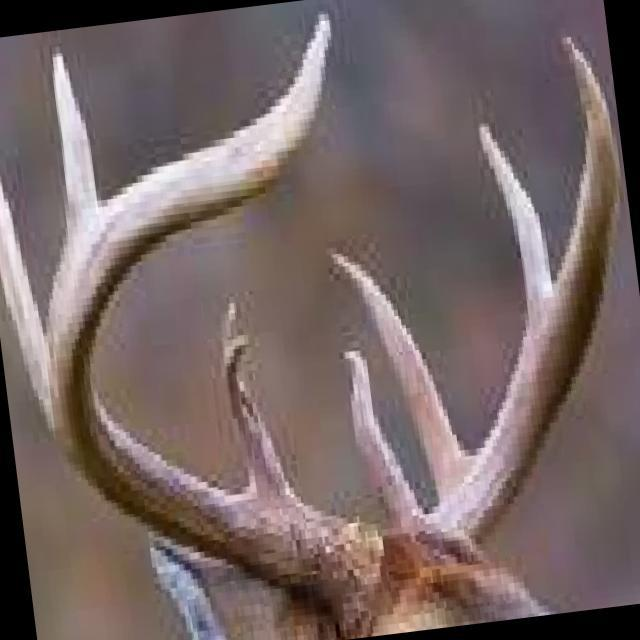L-G1: (335, 345, 426, 530)
L-G2: (326, 246, 475, 504)
L-G3: (478, 120, 553, 326)
R-F: (48, 9, 380, 638)
R-G1: (220, 299, 295, 500)
R-G2: (0, 164, 53, 435)
R-G3: (53, 48, 98, 230)
